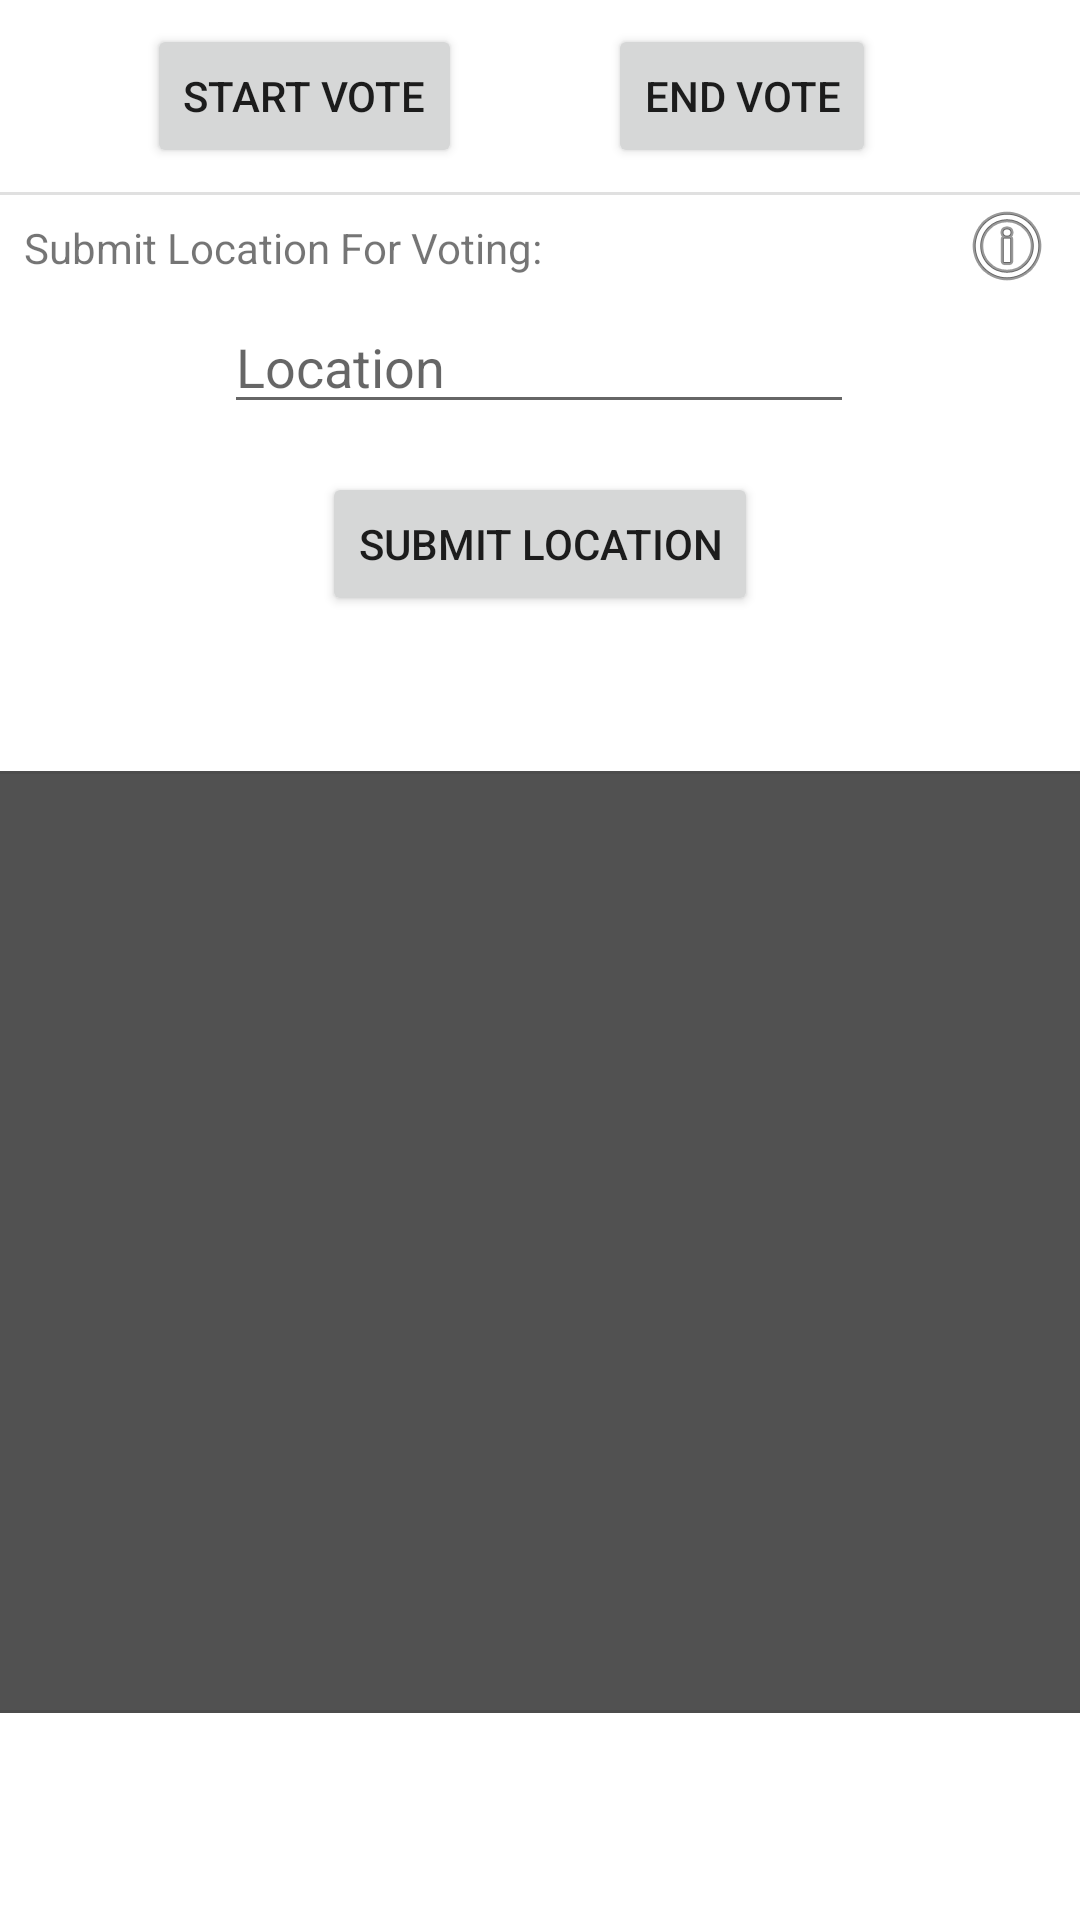

Where icons sit on this 1080 × 1920 app screen, as (x1, y1, x2, y2):
info details: (972, 211, 1042, 281)
